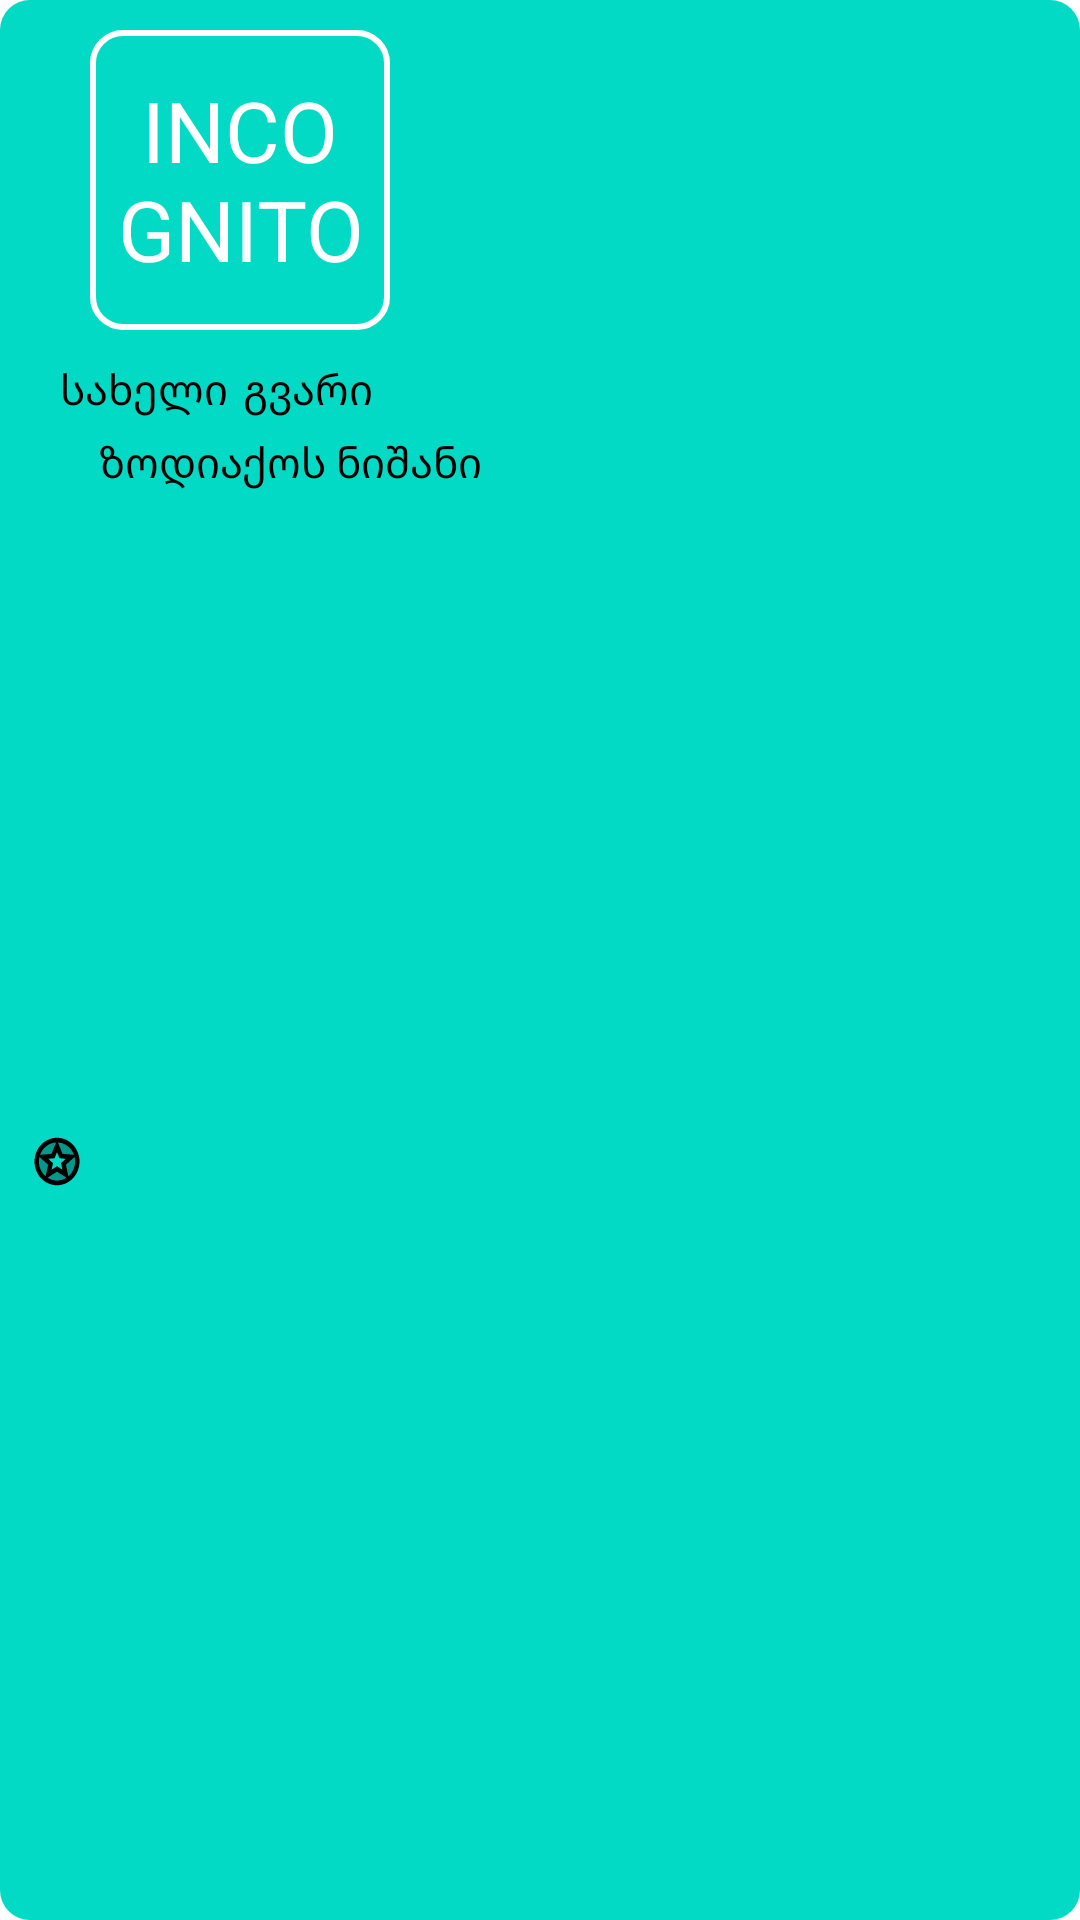

Screen size 1080 × 1920. Icon name, then its box in pixels as (x1, y1, x2, y2):
stars: (34, 1137, 80, 1186)
